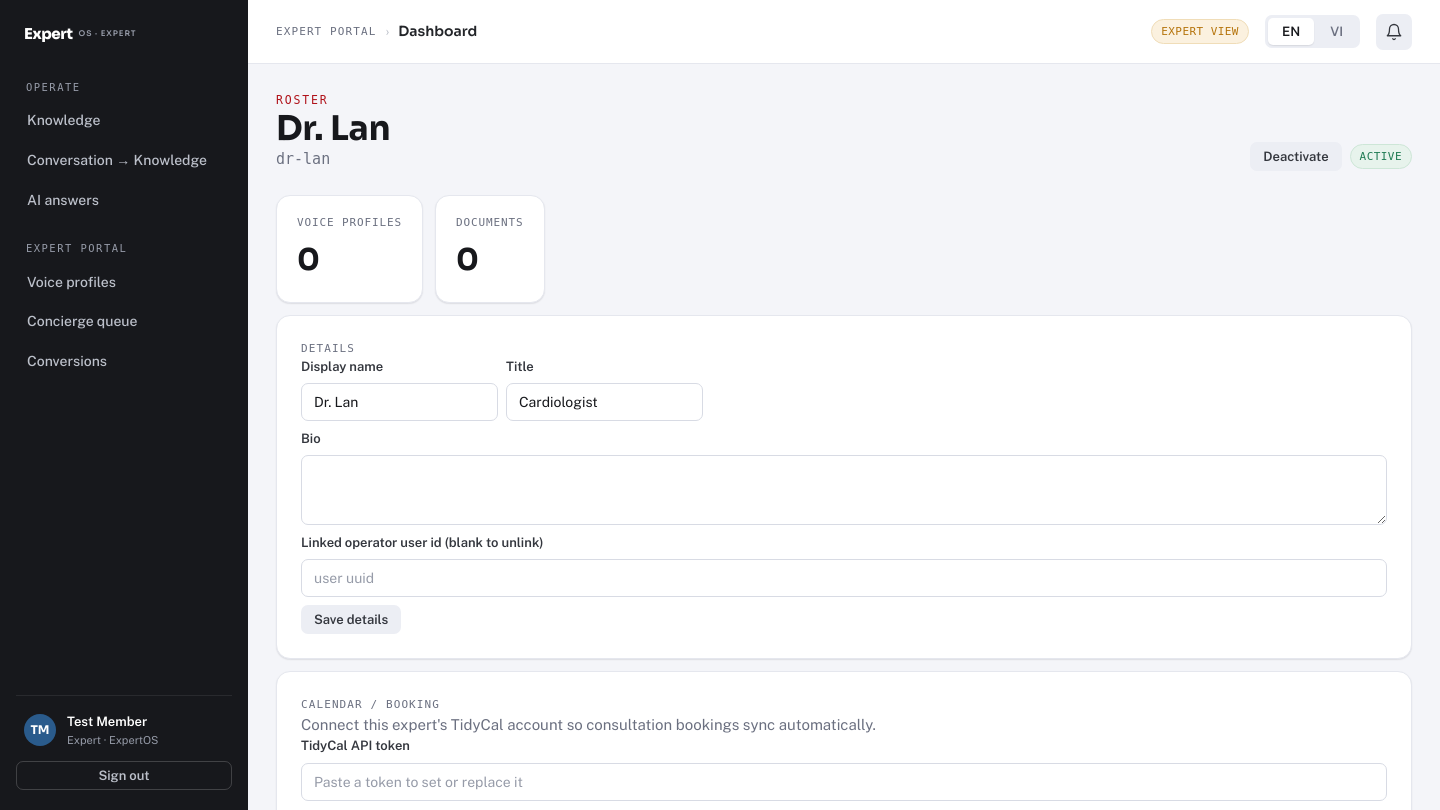
Test: CalendarEditor — save › sends a non-empty token when one is entered (expert)
Type "secret-abcdef" into the password field with placeholder "Paste a token to set or replace it".
click(844, 782); type("secret-abcdef")  # box x1=301 y1=763 x2=1387 y2=801
(page scrolled)
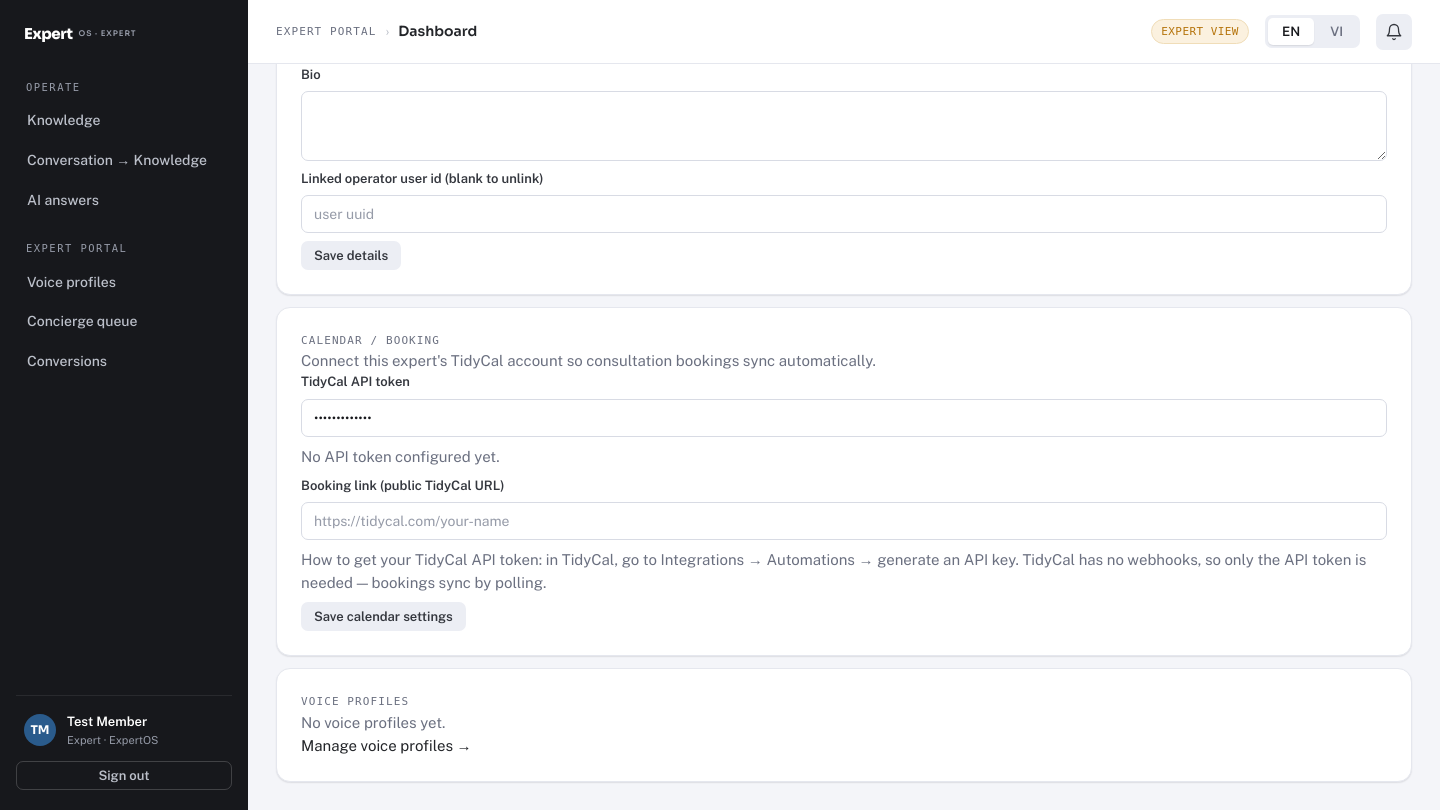
Click the button "Save calendar settings".
click(383, 617)  # box x1=301 y1=602 x2=466 y2=632
(page scrolled)
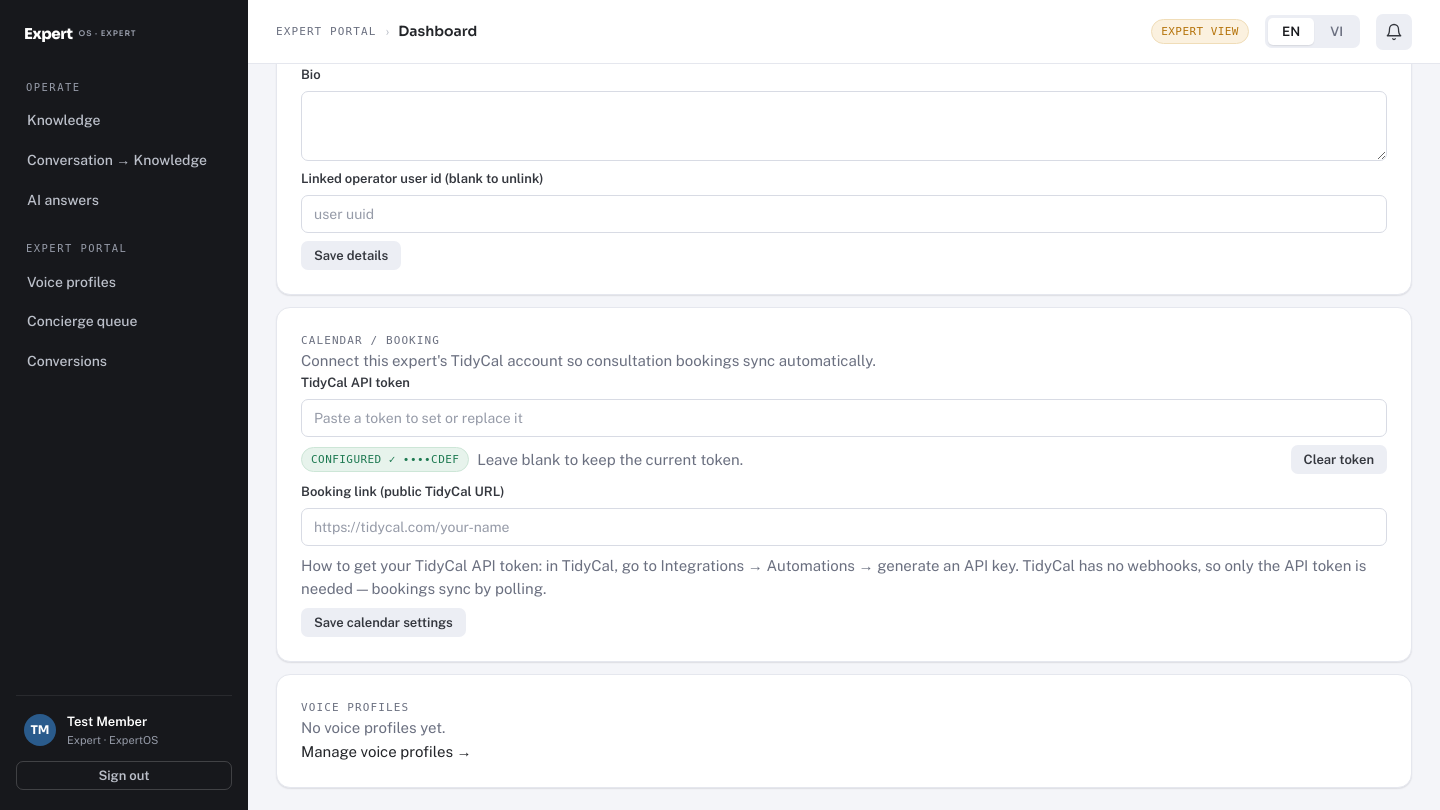
Expected: the text "Configured ✓ ••••cdef" is shown, x1=301 y1=447 x2=469 y2=472
